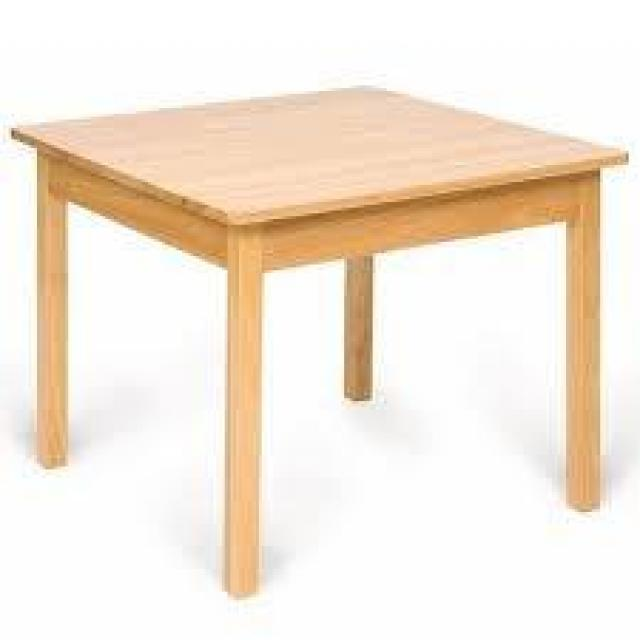table: (4, 59, 619, 590)
